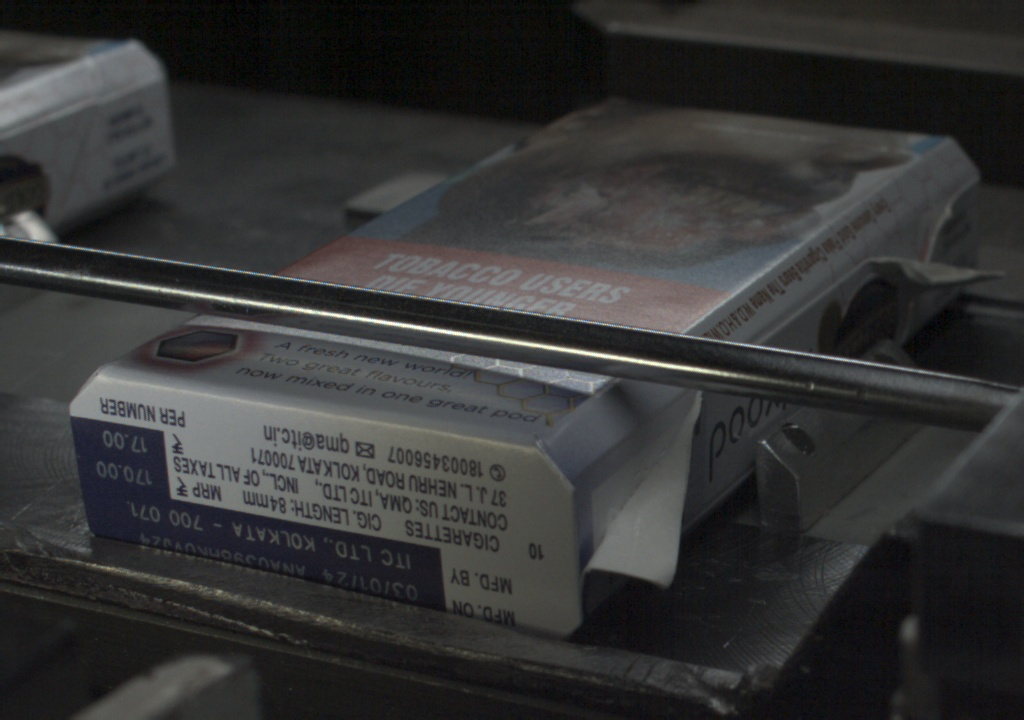g_bottom: (67, 373, 581, 640)
g_label: (81, 495, 444, 617)
g_lmiter: (762, 283, 840, 342)
ng_lmiter: (581, 393, 700, 583), (859, 237, 996, 293)
ng_miter: (928, 178, 984, 222)
price: (76, 425, 170, 495)
